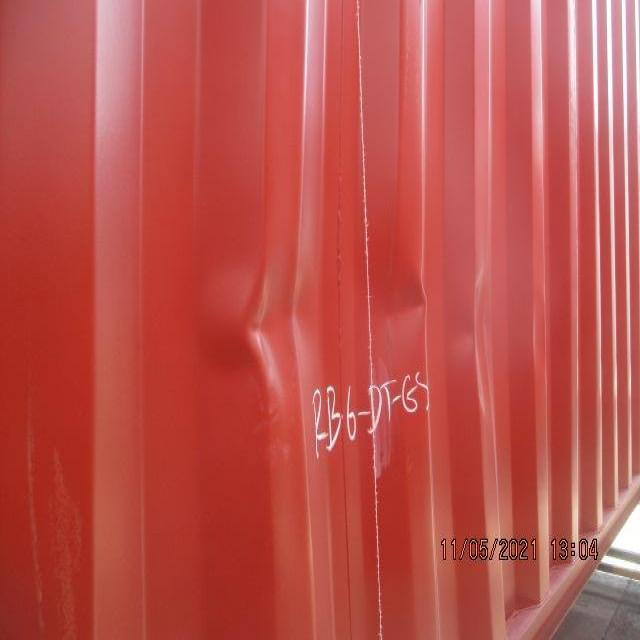Dent: (137, 207, 515, 487)
